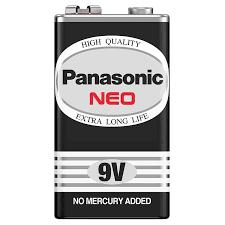9V Battery: (54, 5, 171, 220)
